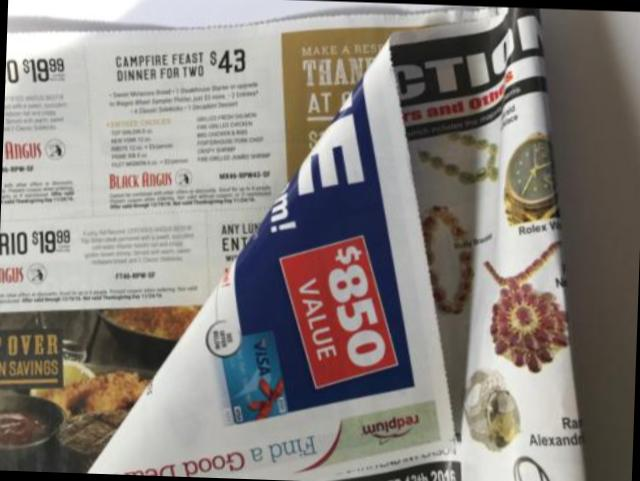cardboard paper: (0, 6, 582, 481)
